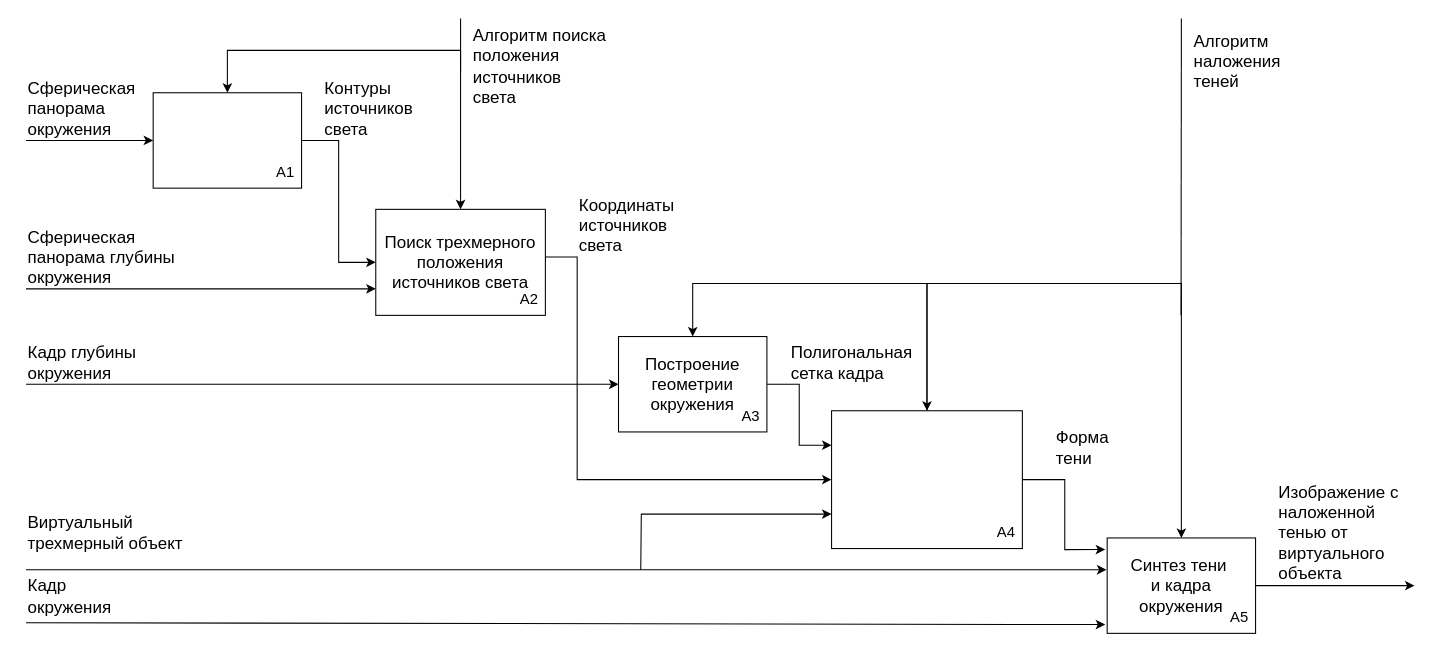
This 1442x652 diagram has some shape labels left out. Here are the shapes that lost their labels. From the top down, the box of each, then its label:
(152, 92, 302, 188): Поиск областей с источниками света
(831, 410, 1022, 549): Получение формы тени виртуального объекта на трехмерной геометрии окружения
